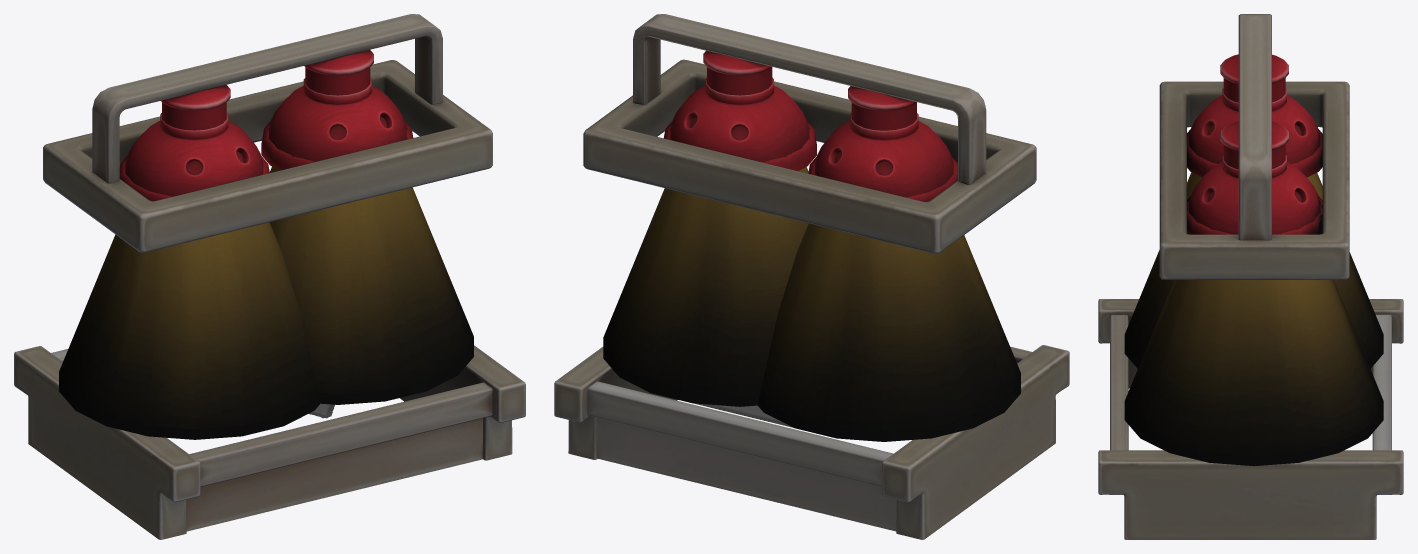
The model's file is m_dlc08_servicehatch_01.fbx.
3 renders of one model, left to right at view 1: azimuth 30°, elevation 25°; view 2: azimuth 150°, elevation 25°; view 3: azimuth 270°, elevation 25°, orthographic. The views are drawn at different scales.
Visible parts, largest first — view 1: m_dlc08_servicehatch_01_1, m_sk_the_pass_01_1; view 2: m_dlc08_servicehatch_01_1, m_sk_the_pass_01_1, m_dlc08_servicehatch_01_0; view 3: m_dlc08_servicehatch_01_1, m_sk_the_pass_01_1.
Boxes of the visible parts, x1,y1,x2,y2 form: m_dlc08_servicehatch_01_1: (14, 14, 525, 539); m_sk_the_pass_01_1: (59, 166, 473, 439); m_dlc08_servicehatch_01_1: (554, 14, 1069, 539); m_sk_the_pass_01_1: (603, 167, 1020, 441); m_dlc08_servicehatch_01_0: (693, 403, 794, 428); m_dlc08_servicehatch_01_1: (1098, 14, 1403, 539); m_sk_the_pass_01_1: (1124, 172, 1383, 466).
Bounding box in the file's own units: 2.59 × 2.53 × 1.88.
